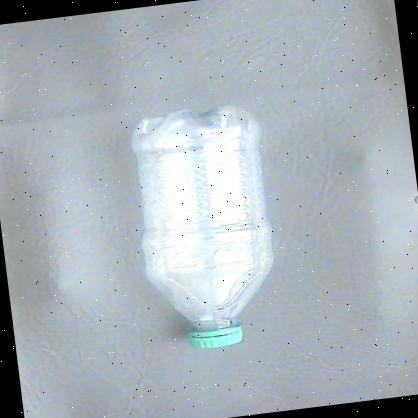bottle: (119, 98, 291, 361)
cap: (183, 318, 248, 353)
